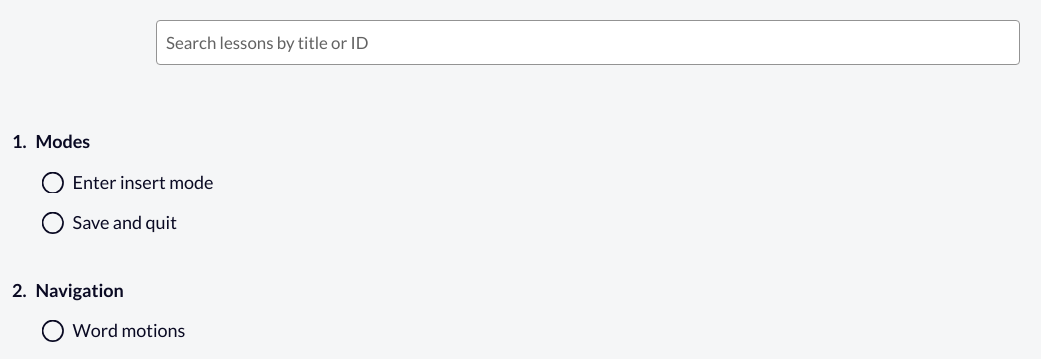
CurriculumNavigator › should search the home curriculum tree
Type "word" into the search field at (588, 43), box [157, 21, 1019, 64]
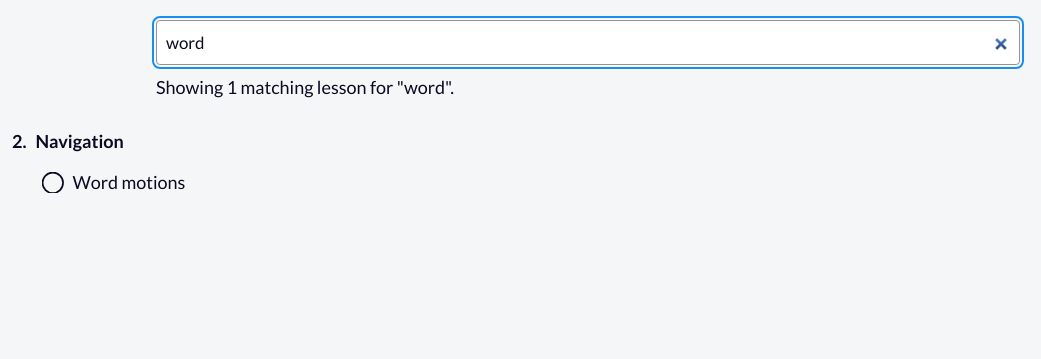
expect the message reads "Showing 1 matching lesson for \"word\".": met, box [156, 76, 454, 98]
expect the link "Save and quit" is gone: met
expect the heading "1. Modes" is gone: met
